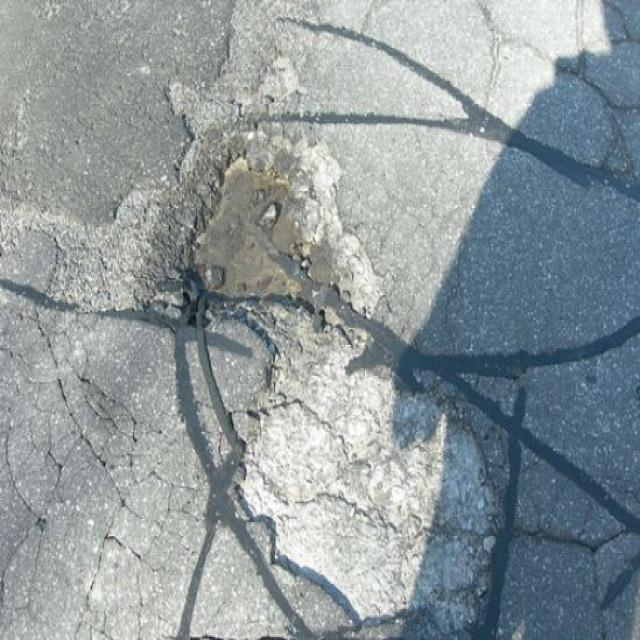Pothole: (227, 332, 512, 638), (162, 143, 332, 303)
